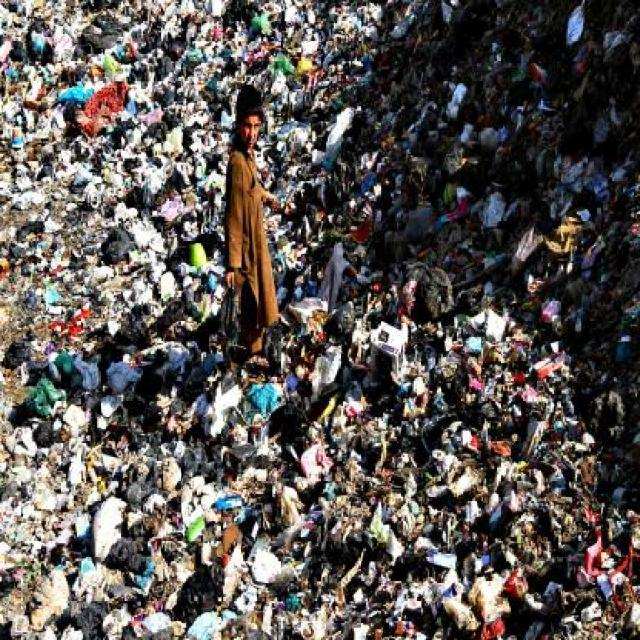garbage: (272, 1, 638, 640), (2, 3, 223, 639), (226, 371, 274, 630), (228, 3, 272, 80)
